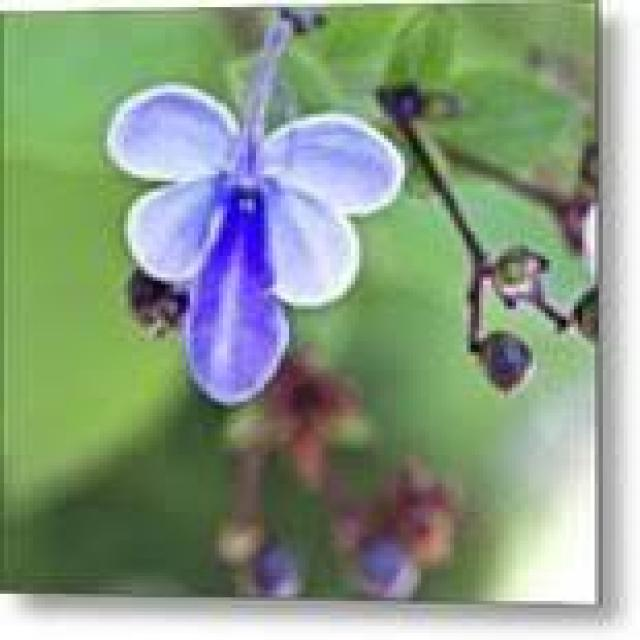organic waste: (101, 62, 378, 422)
